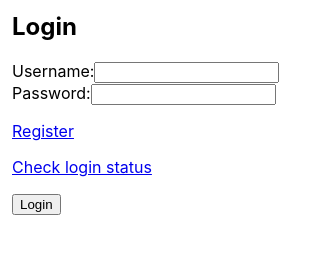
Test: Authentication Workflow › should display an error message for invalid credentials
Type "invalidUser" into the field with id "username" at (187, 73), box [94, 62, 279, 83]
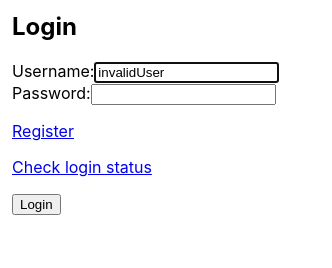
Type "invalidPass" into the password field at (184, 95), box [91, 84, 276, 105]
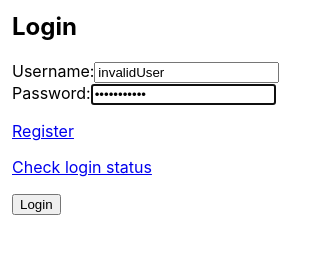
Click the submit button at (37, 205), box [12, 194, 61, 215]
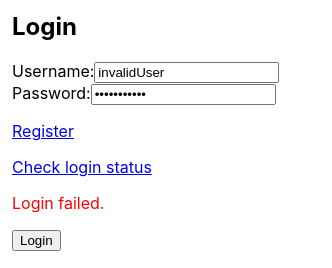
Result: the text "Login failed." is shown at [12, 193, 104, 213]
